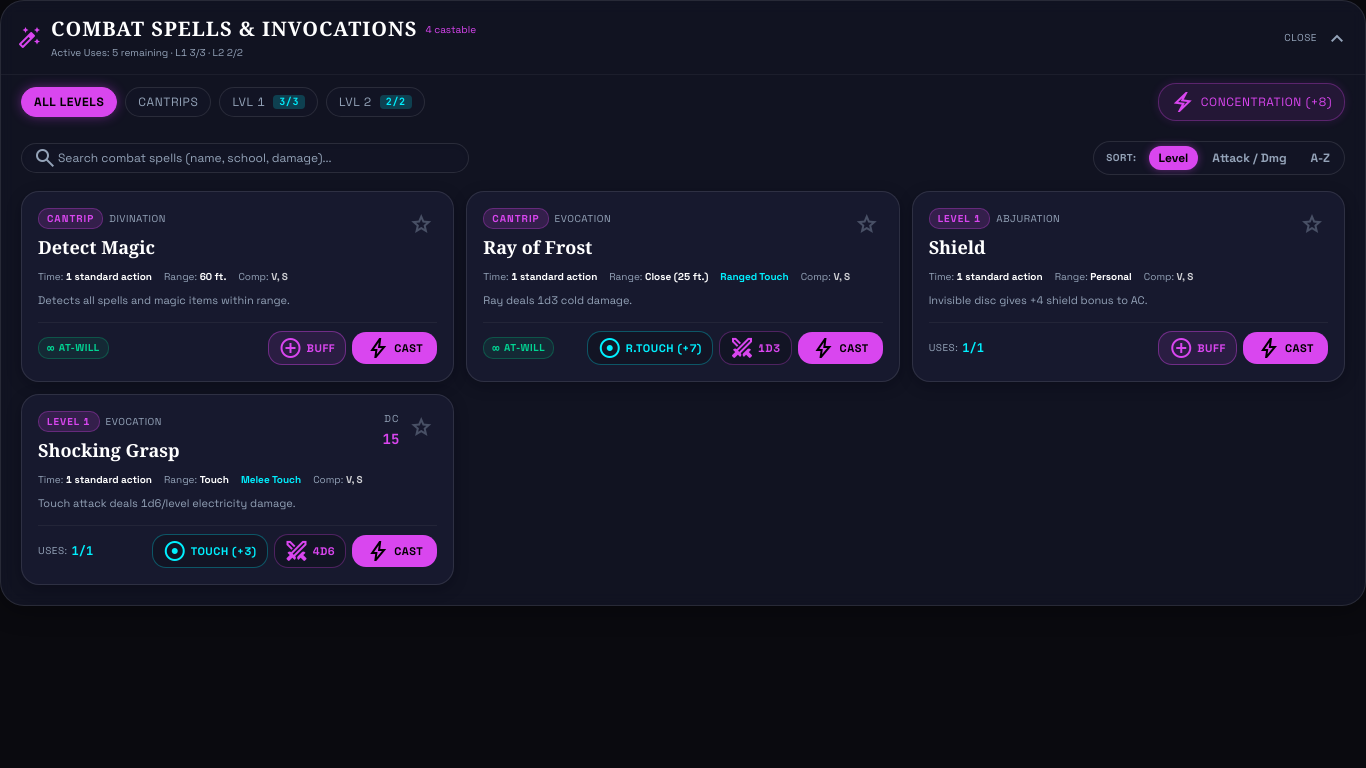
Test: CombatSpellsSection › filters spells dynamically with the search input
The width and height of the screenshot is (1366, 768).
Type "frost" into the field with placeholder "Search combat spells (name, school, damage)..." at [245, 158], box [21,143,469,173]
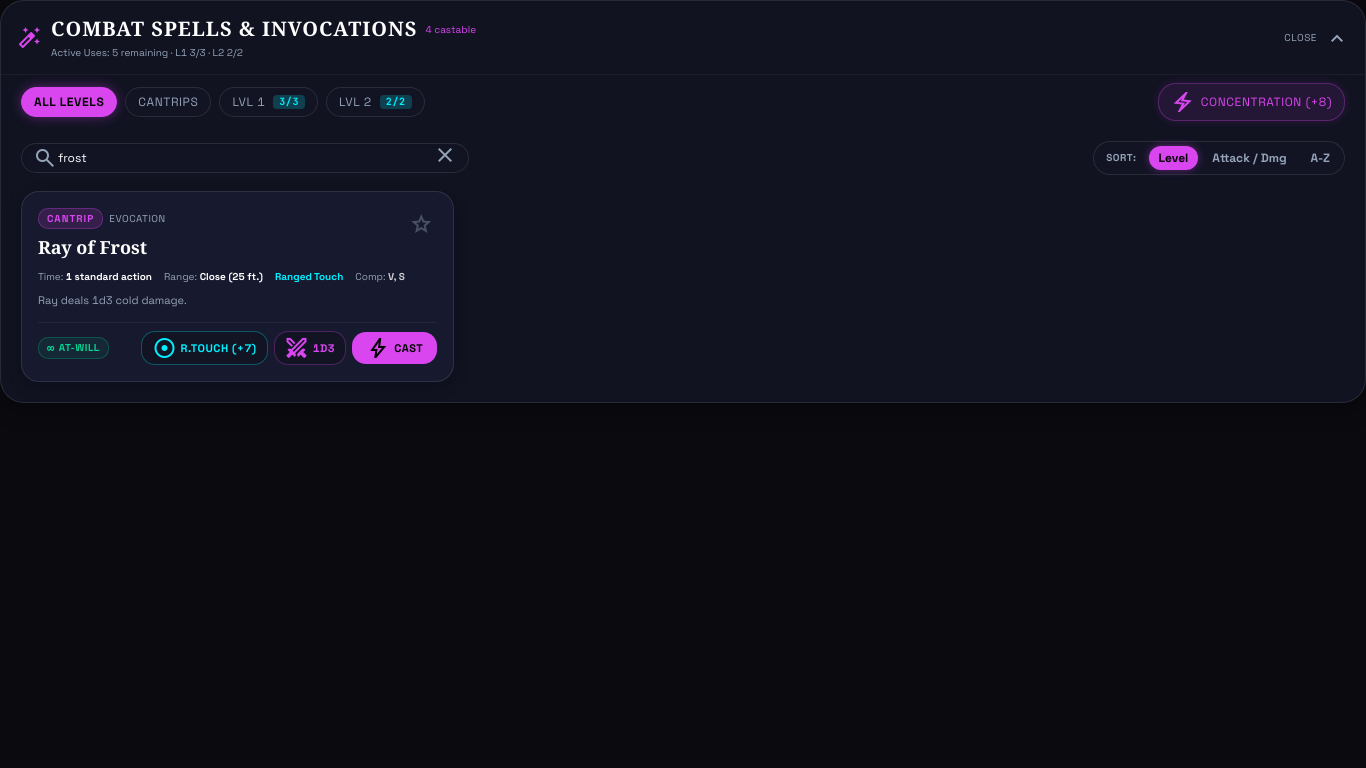
Check: the heading "Ray of Frost" is shown, box [38,235,147,259]
Check: the heading "Shocking Grasp" is gone
Check: the heading "Detect Magic" is gone
// Clear search using clear button
Click the button named "clear search" at [445, 158], box [431,141,459,175]
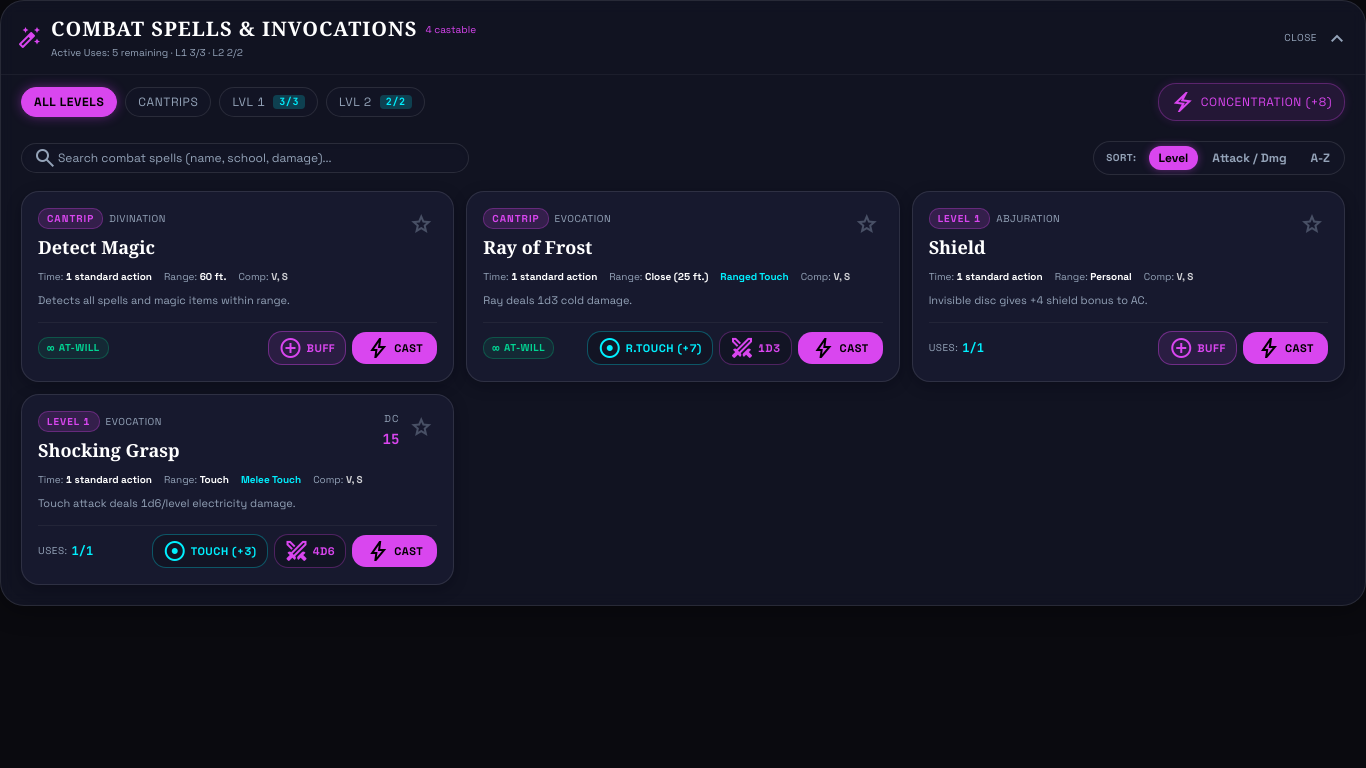
Check: the heading "Ray of Frost" is shown, box [483,235,592,259]
Check: the heading "Shocking Grasp" is shown, box [38,438,180,462]
Type "abjuration" into the field with placeholder "Search combat spells (name, school, damage)..." at [245, 158], box [21,143,469,173]
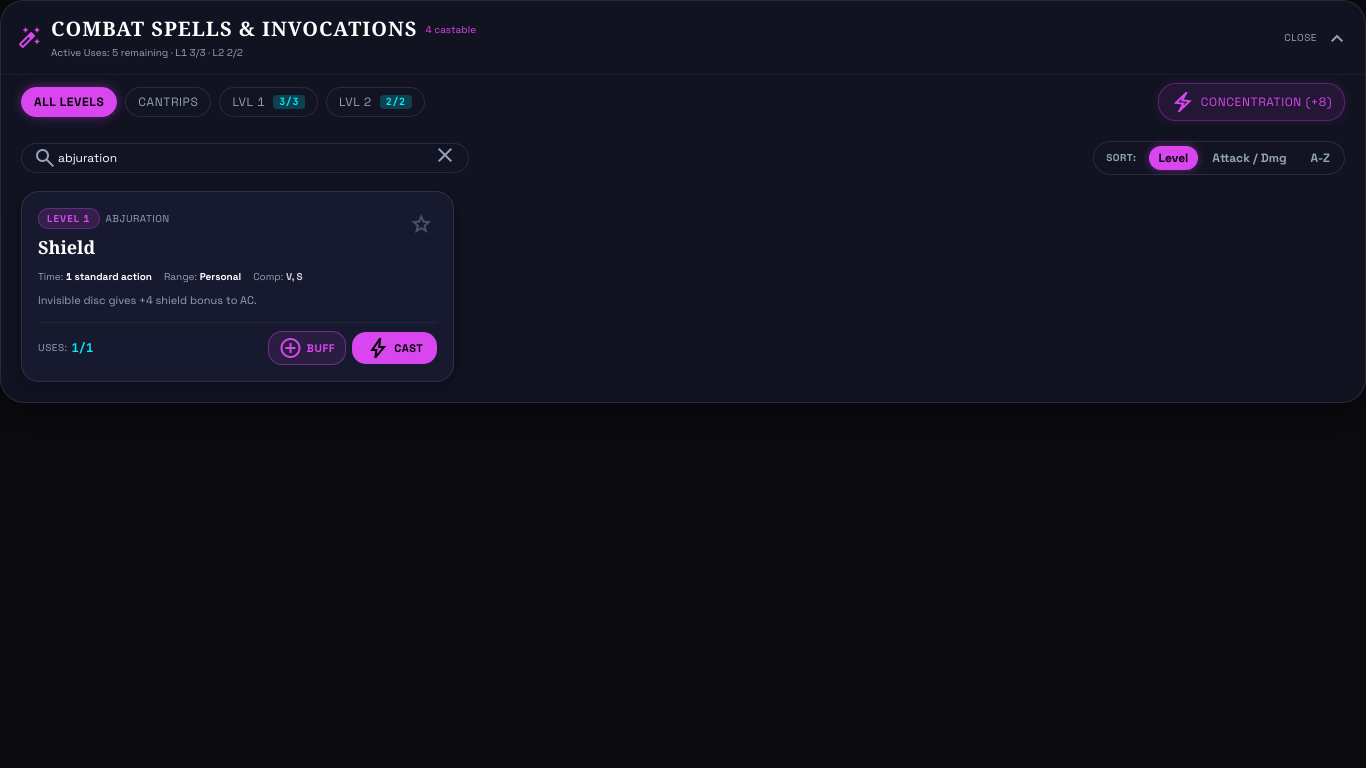
Check: the heading "Shield" is shown, box [38,235,95,259]
Check: the heading "Ray of Frost" is gone
